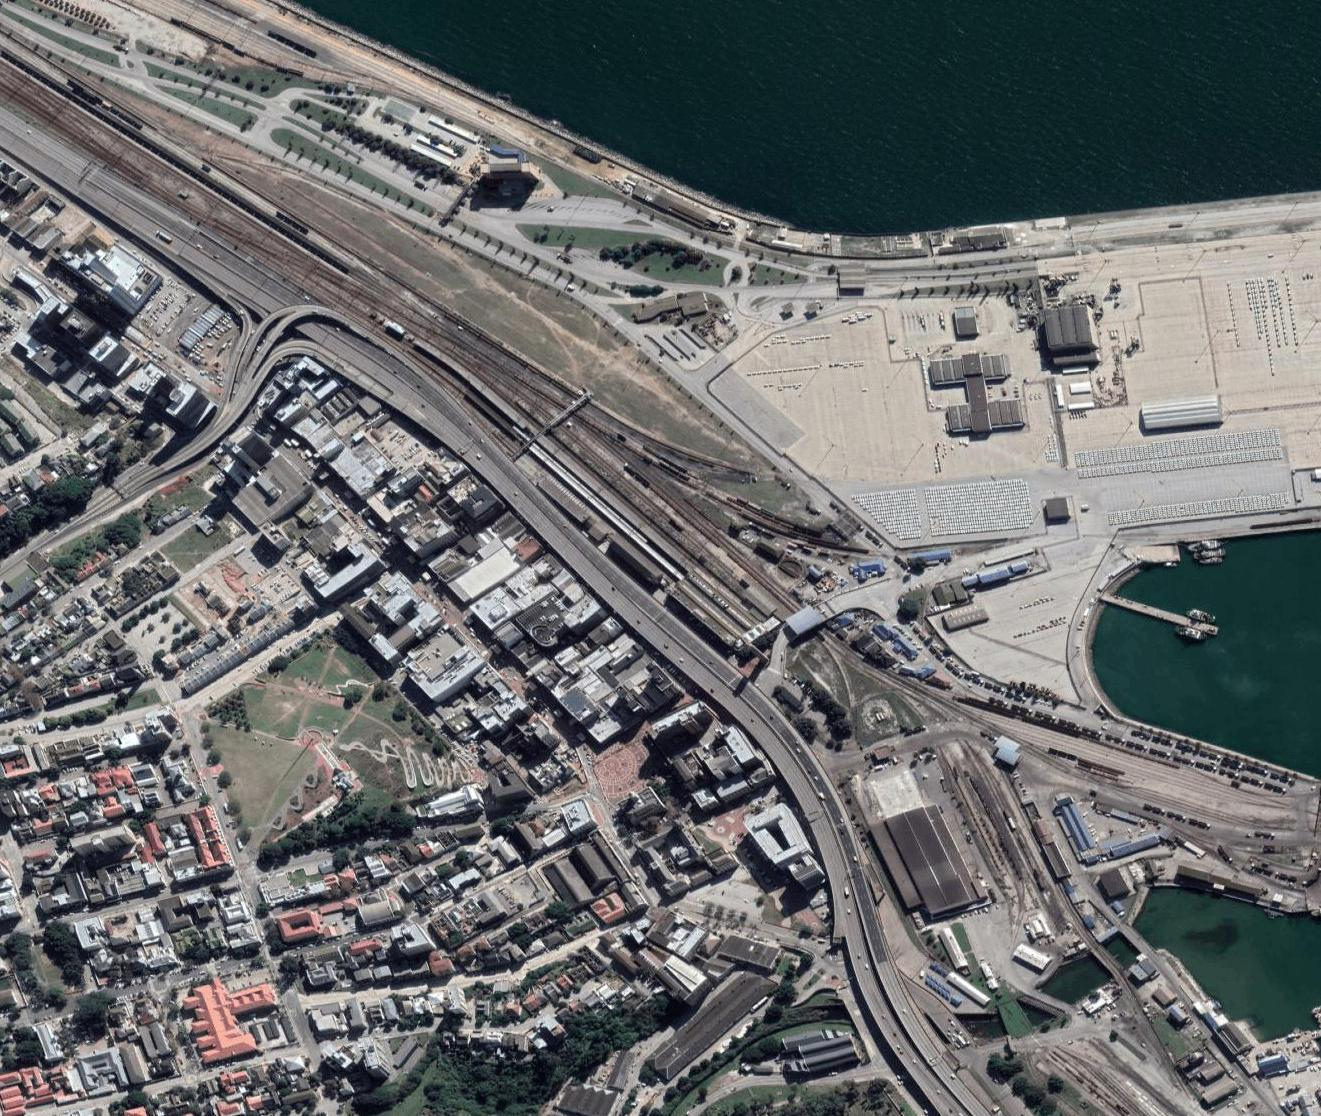motorway: (795, 775, 976, 1116), (606, 581, 799, 777), (1, 115, 217, 272), (426, 400, 610, 583), (211, 265, 429, 420)
train_station: (550, 414, 868, 707)
